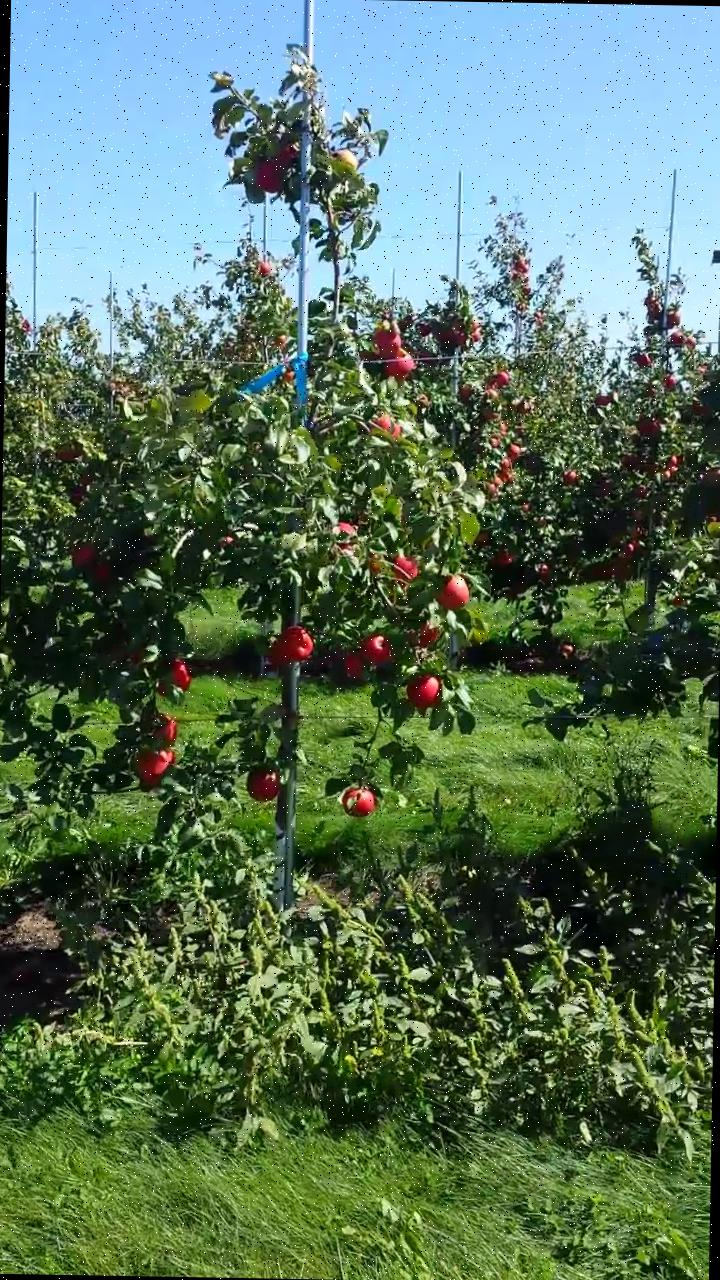Apple: (134, 746, 174, 786), (283, 626, 316, 661), (436, 573, 468, 609), (246, 770, 281, 800), (404, 674, 438, 704), (362, 635, 394, 666), (384, 350, 416, 380), (342, 788, 374, 814), (372, 329, 400, 358), (256, 162, 282, 192), (152, 714, 178, 742), (170, 657, 190, 692), (392, 556, 418, 581), (368, 417, 402, 436), (417, 620, 440, 647), (344, 652, 364, 677), (269, 640, 291, 662), (280, 144, 300, 166), (334, 148, 358, 166), (72, 546, 94, 565), (54, 450, 75, 463), (338, 520, 354, 534), (93, 564, 109, 578), (336, 542, 356, 550), (155, 680, 165, 694), (222, 536, 232, 548)
